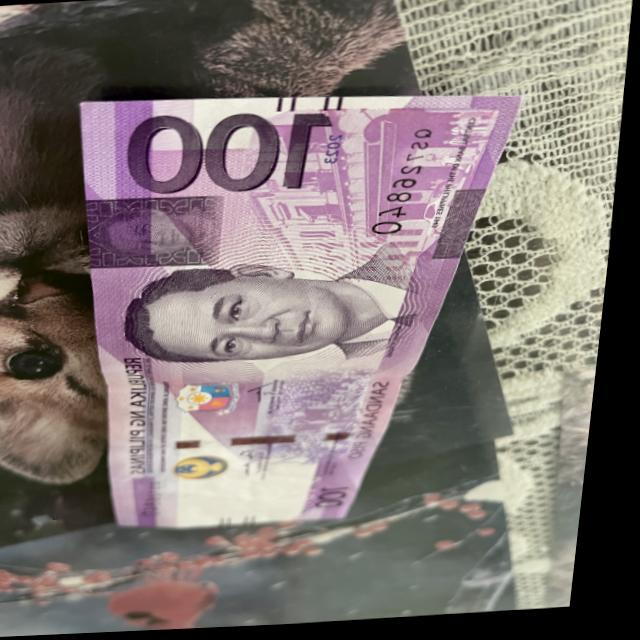concealed_value: (82, 199, 235, 271)
serial_number: (366, 129, 440, 244)
value: (116, 112, 342, 206)
